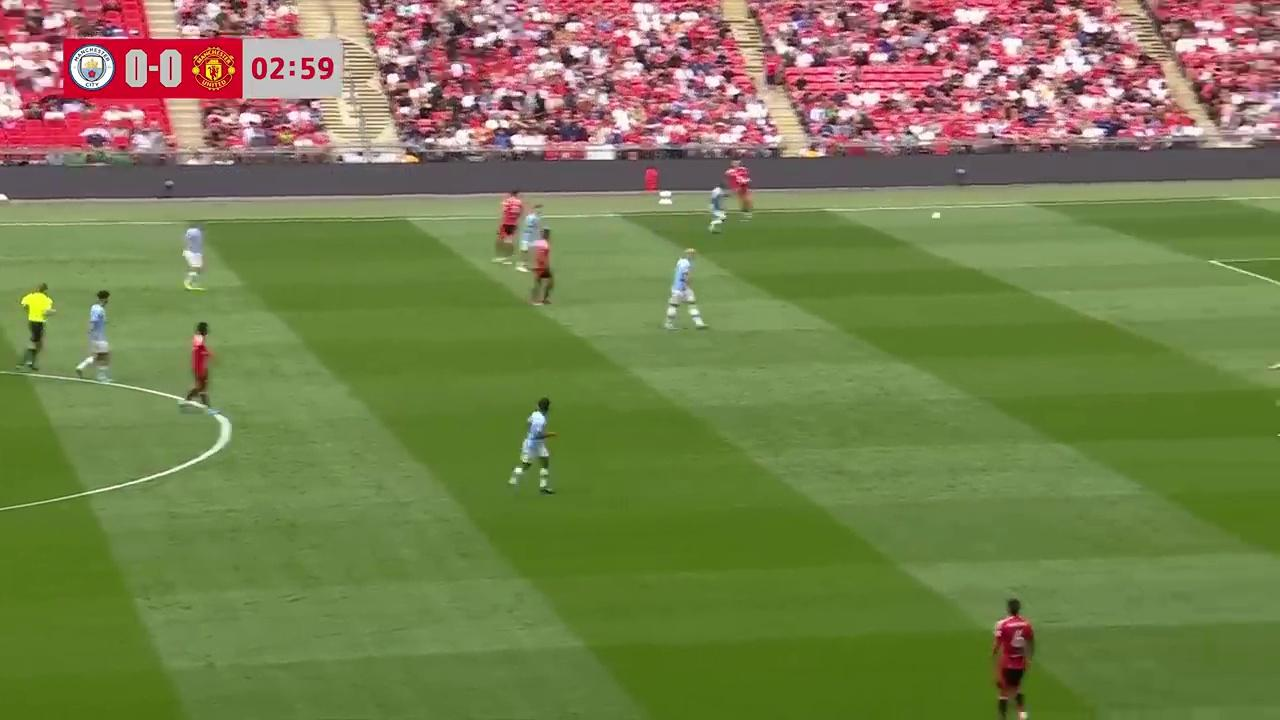player: (990, 596, 1035, 720), (506, 397, 555, 494), (662, 247, 706, 331), (76, 289, 114, 383), (181, 321, 216, 413), (494, 191, 529, 264), (528, 227, 553, 305), (515, 203, 540, 267), (182, 222, 205, 289), (729, 165, 754, 219), (707, 183, 727, 233)
referee: (20, 281, 56, 372), (728, 164, 754, 219)
